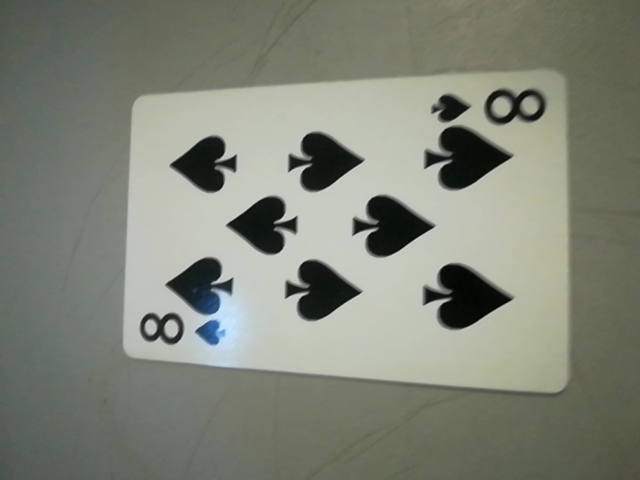ht 8: (430, 83, 559, 133)
